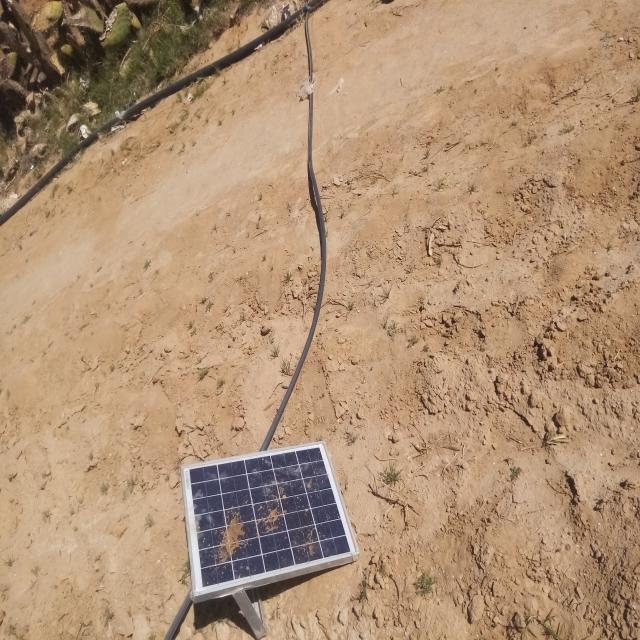faulty: (182, 441, 359, 594)
